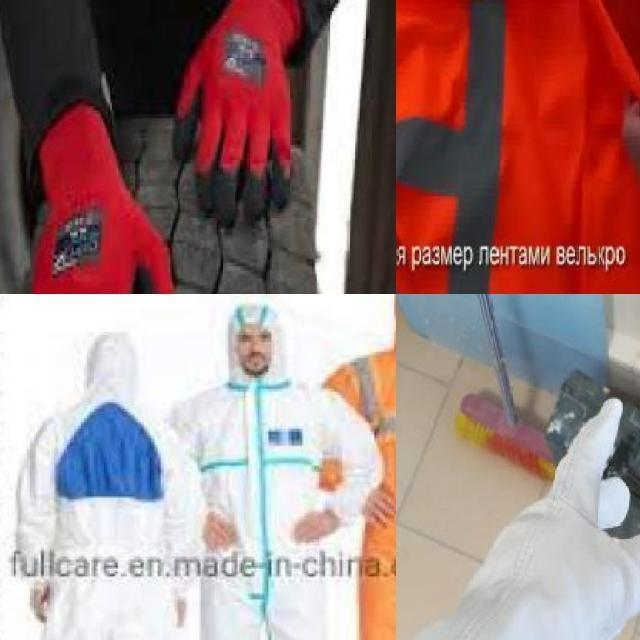apron: (428, 372, 640, 640), (17, 97, 175, 294), (172, 0, 305, 228)
